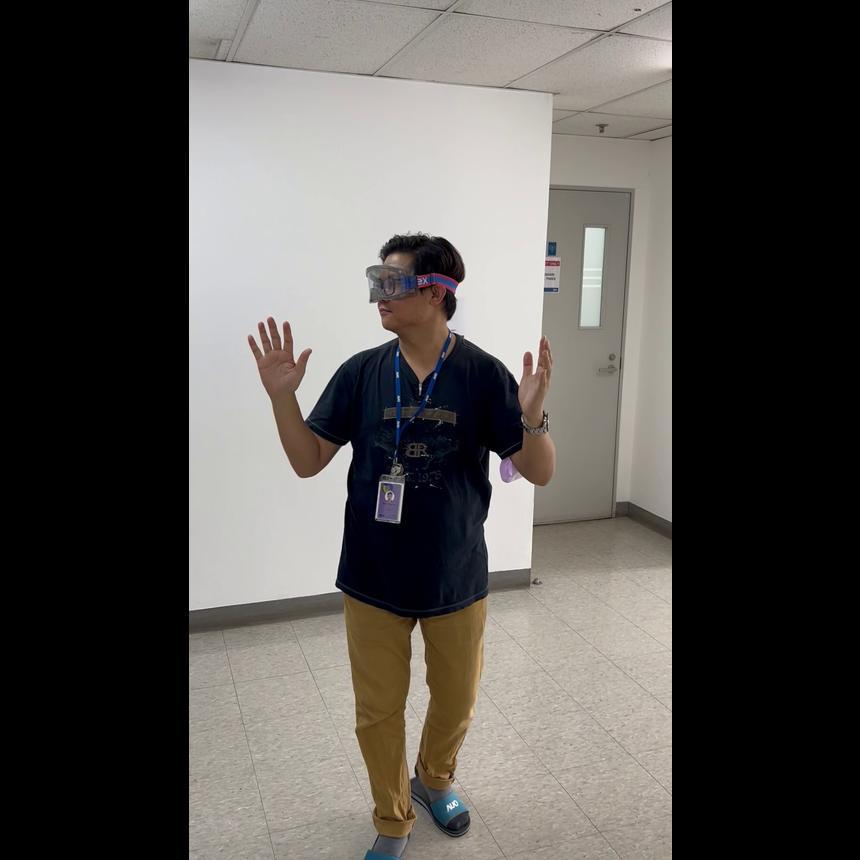No-gloves: (244, 310, 312, 396), (514, 330, 553, 429)
